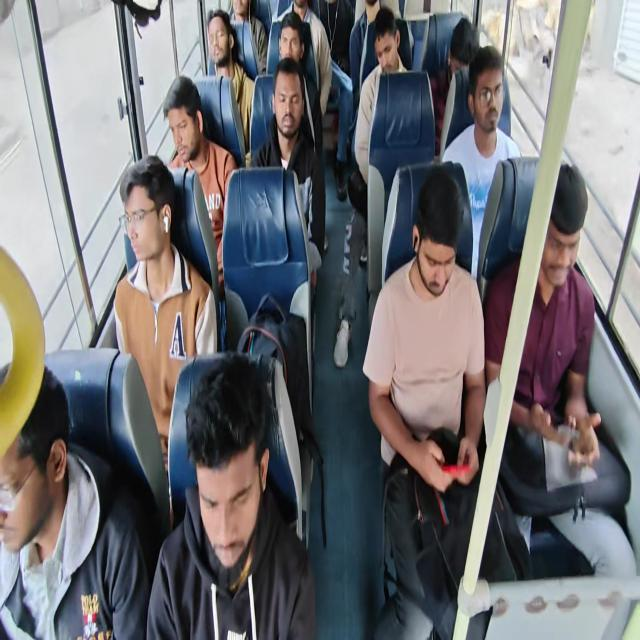person: (0, 352, 64, 570), (195, 375, 262, 560), (527, 148, 588, 328), (118, 169, 178, 267), (412, 204, 460, 305), (163, 79, 204, 160), (268, 68, 310, 141), (446, 22, 482, 82), (476, 62, 506, 132), (371, 20, 404, 83), (209, 15, 239, 74), (278, 26, 308, 73), (284, 0, 307, 15), (232, 0, 253, 15)
